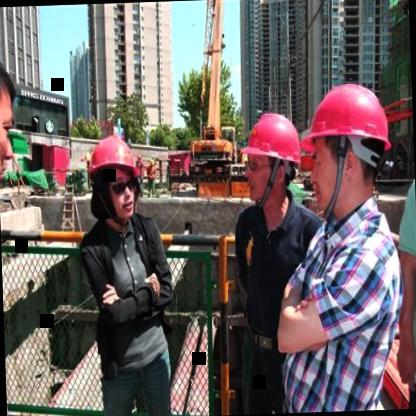helmet: (311, 76, 391, 220), (242, 108, 303, 209), (85, 134, 144, 226)
